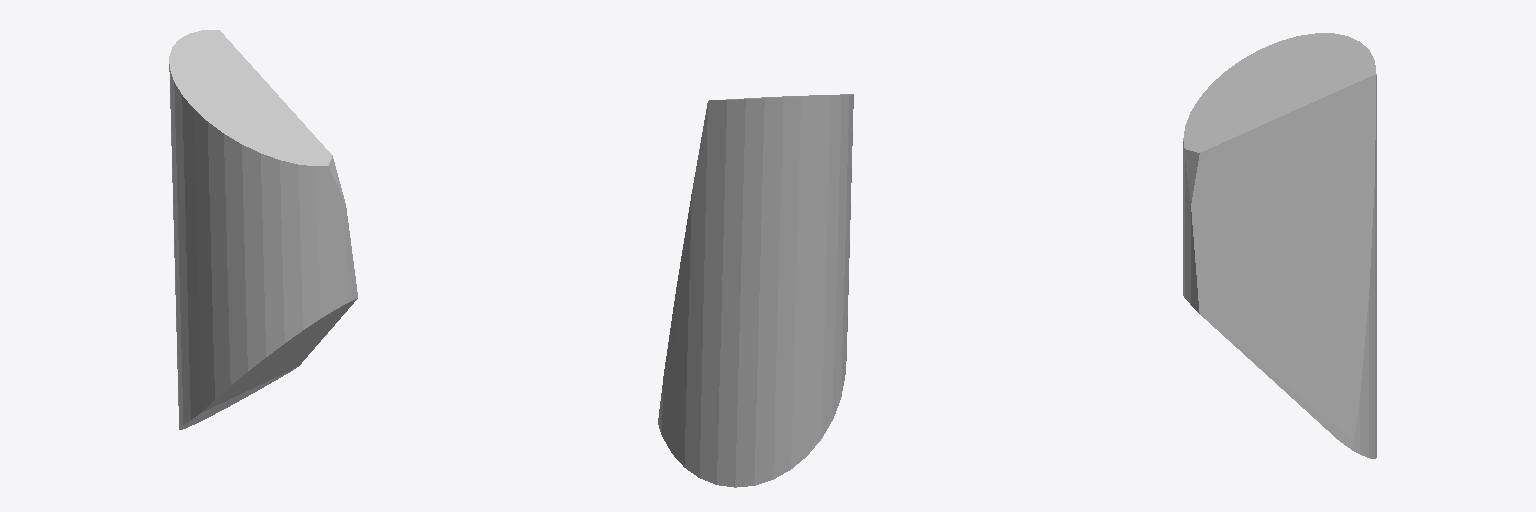
File: torii_broken_027.obj
3 views of the same model, side by side, from view 1: azimuth 30°, elevation 25°; view 2: azimuth 150°, elevation 25°; view 3: azimuth 270°, elevation 25° (orthographic).
Visible parts, largest first — view 1: 鳥居.001_cell.027_鳥居.001_cell.015; view 2: 鳥居.001_cell.027_鳥居.001_cell.015; view 3: 鳥居.001_cell.027_鳥居.001_cell.015.
Boxes of the visible parts, <box> form: 鳥居.001_cell.027_鳥居.001_cell.015: <box>169,30,357,429</box>; 鳥居.001_cell.027_鳥居.001_cell.015: <box>658,94,853,487</box>; 鳥居.001_cell.027_鳥居.001_cell.015: <box>1183,33,1376,458</box>.
Size of the model in its own units: 0.2809 by 0.7136 by 0.3192.